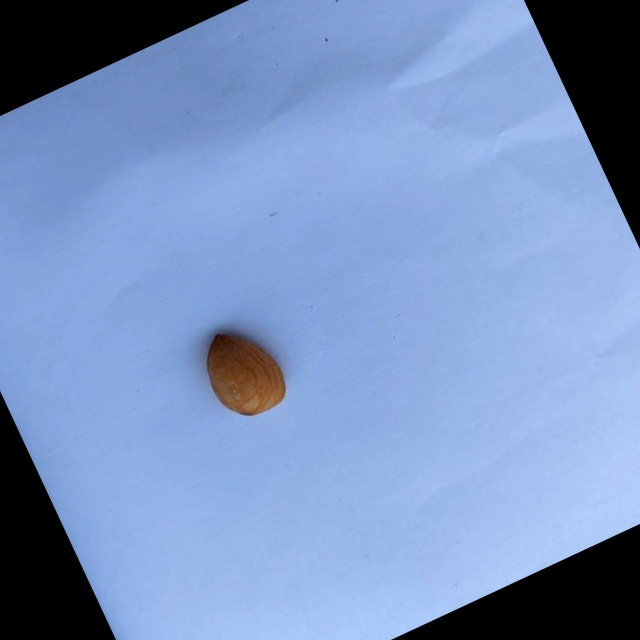grade2: (189, 311, 302, 432)
